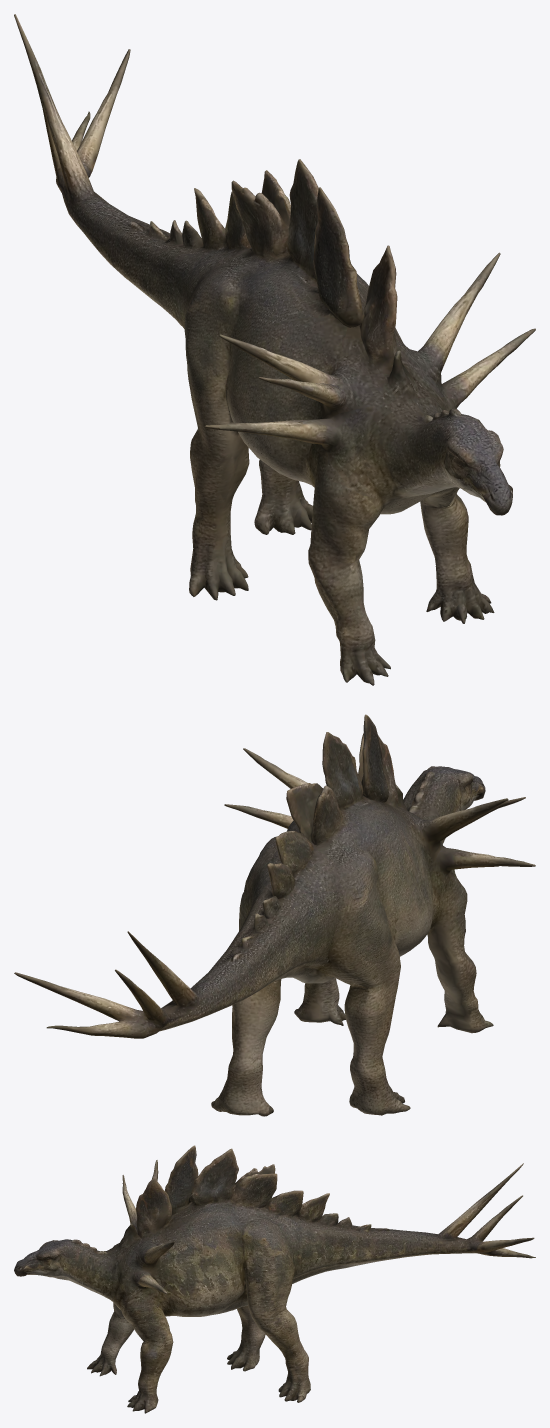
File: kentrosaurus.glb
3 views of the same model, one above another, from view 1: azimuth 30°, elevation 25°; view 2: azimuth 150°, elevation 25°; view 3: azimuth 270°, elevation 25° (orthographic). The views are drawn at different scales.
Visible parts, largest first — view 1: dino; view 2: dino; view 3: dino.
Part boxes in pixels (left/top/right/bottom): dino: left=14, top=14, right=535, bottom=685; dino: left=14, top=714, right=535, bottom=1116; dino: left=14, top=1145, right=535, bottom=1413.
Size of the model in its own units: 1.95 by 2.25 by 4.5.
1 material, 1 textured.
